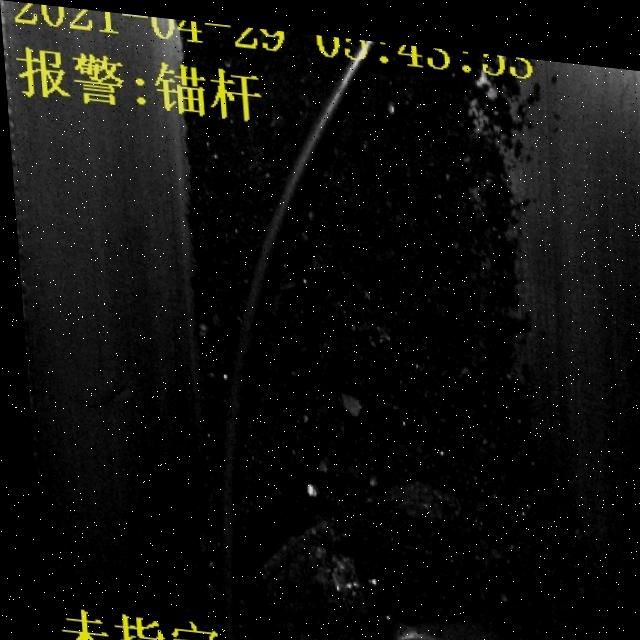bolt: (179, 121, 391, 640), (375, 615, 585, 640)
large_sized_coal: (238, 505, 363, 640), (371, 467, 468, 535), (385, 611, 510, 640)
